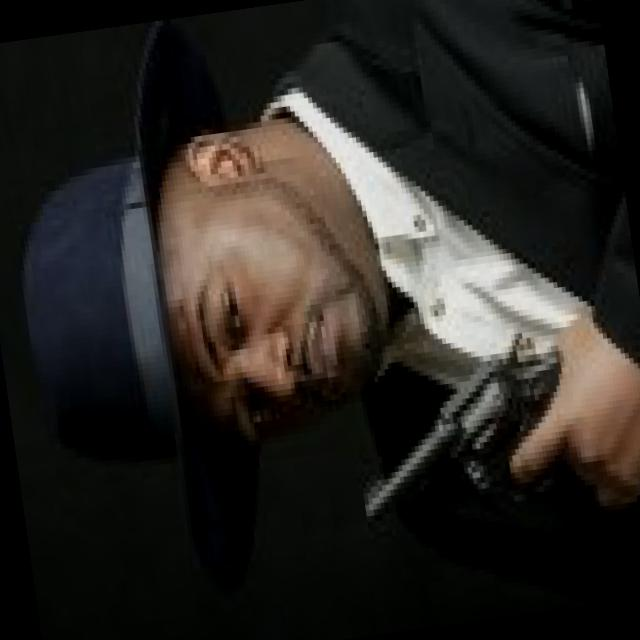handgun: (325, 320, 596, 564)
